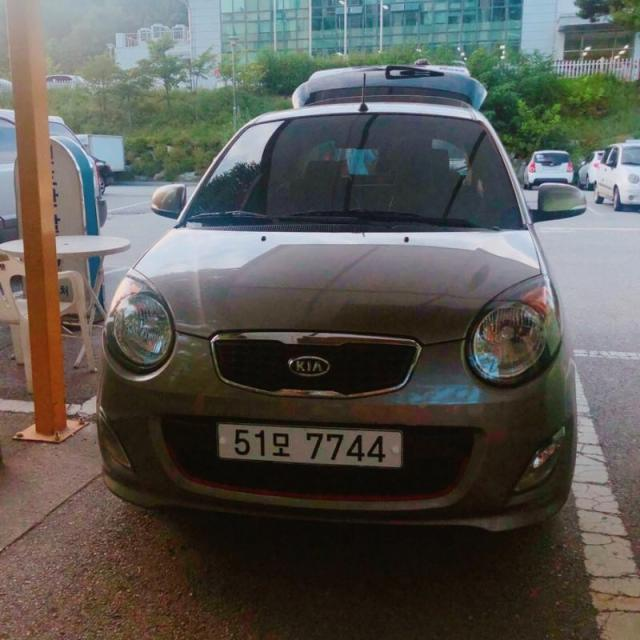car: (91, 54, 588, 555)
illegal_plate: (215, 416, 407, 476)
